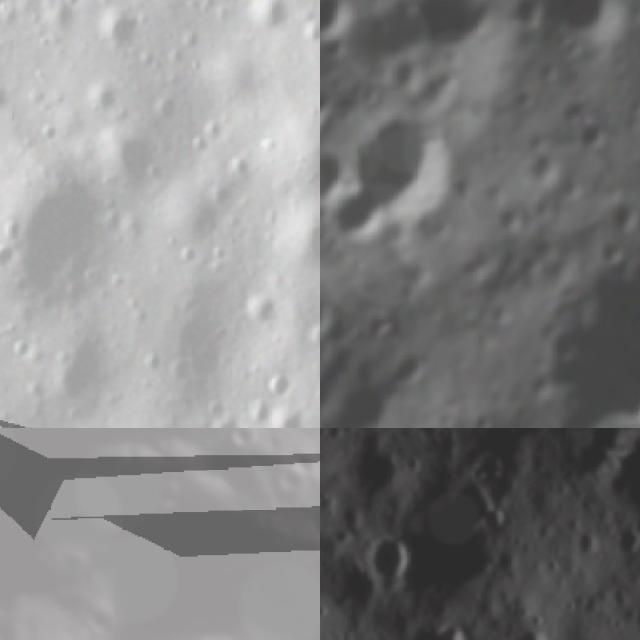crater: (339, 87, 473, 229), (8, 176, 108, 306), (326, 0, 449, 90), (405, 0, 514, 71), (527, 0, 640, 64), (357, 527, 426, 602), (320, 179, 392, 250), (46, 335, 118, 404), (320, 378, 404, 428), (402, 56, 468, 117), (383, 600, 479, 640), (106, 133, 160, 193), (366, 206, 421, 260), (320, 0, 365, 65), (320, 135, 359, 209), (518, 142, 571, 194), (94, 8, 146, 57), (388, 343, 435, 396), (320, 275, 348, 357), (473, 498, 522, 544), (543, 320, 587, 371), (485, 193, 532, 240), (597, 191, 640, 242), (289, 210, 320, 276), (586, 228, 632, 270), (268, 457, 314, 499), (241, 0, 289, 36), (292, 127, 320, 188), (574, 117, 616, 157), (569, 524, 609, 564), (521, 365, 562, 403), (605, 518, 640, 559), (532, 55, 566, 92), (320, 77, 339, 143), (505, 619, 562, 640), (624, 22, 640, 91), (462, 406, 505, 428), (272, 405, 312, 428), (0, 74, 18, 116), (320, 505, 334, 556), (265, 377, 292, 402), (402, 452, 426, 477), (231, 428, 260, 445), (54, 0, 88, 12), (320, 600, 332, 626)
